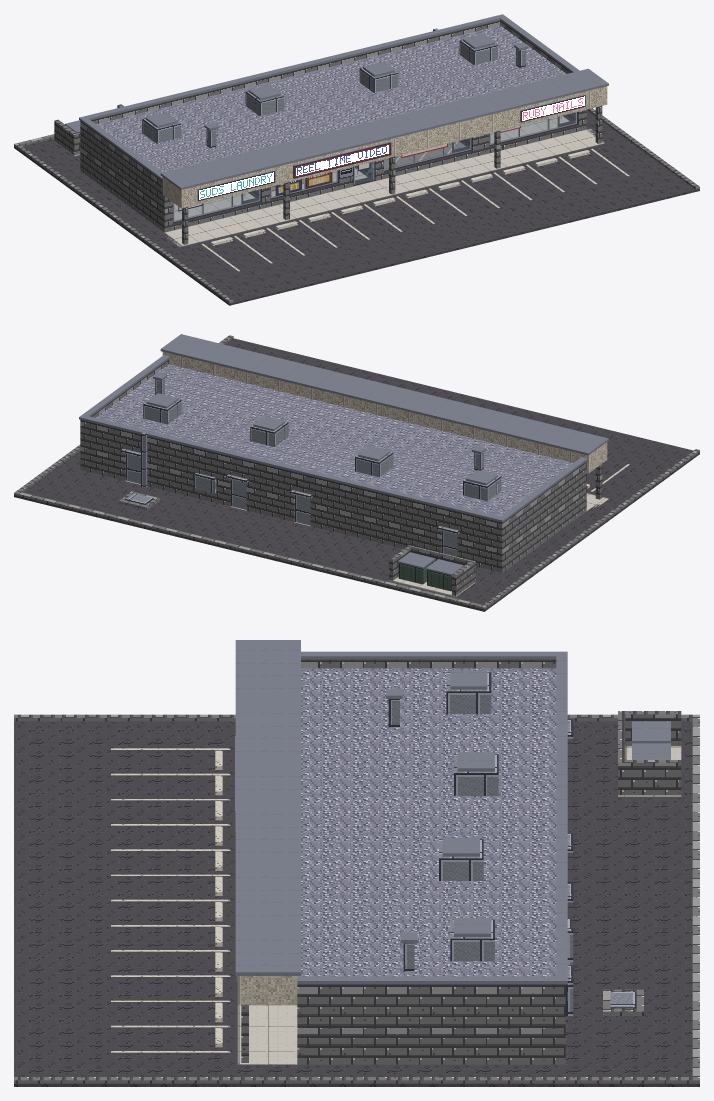
The model's file is reel-time-video-1984.glb.
The picture shows the model from 3 angles, top to bottom: view 1: azimuth 30°, elevation 25°; view 2: azimuth 150°, elevation 25°; view 3: azimuth 270°, elevation 25°; orthographic projection. The views are drawn at different scales.
Visible parts, largest first — view 1: structure, lot, parking_lot, rear_service; view 2: structure, lot, rear_service; view 3: structure, lot, rear_service, parking_lot.
Boxes of the visible parts, x1,y1,x2,y2 form: structure: [79, 14, 608, 244]; lot: [14, 108, 699, 305]; parking_lot: [201, 148, 629, 271]; rear_service: [54, 28, 438, 156]; structure: [79, 334, 608, 572]; lot: [14, 335, 699, 611]; rear_service: [118, 433, 475, 596]; structure: [235, 640, 573, 1064]; lot: [14, 714, 699, 1086]; rear_service: [565, 711, 681, 1015]; parking_lot: [111, 748, 230, 1052].
Size of what is drawn, in the model's own units: 36.01 by 4.97 by 28.56.
11 materials, 11 textured.
